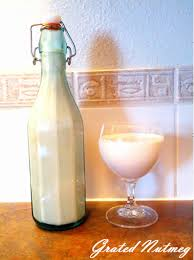milk: (15, 13, 97, 232)
